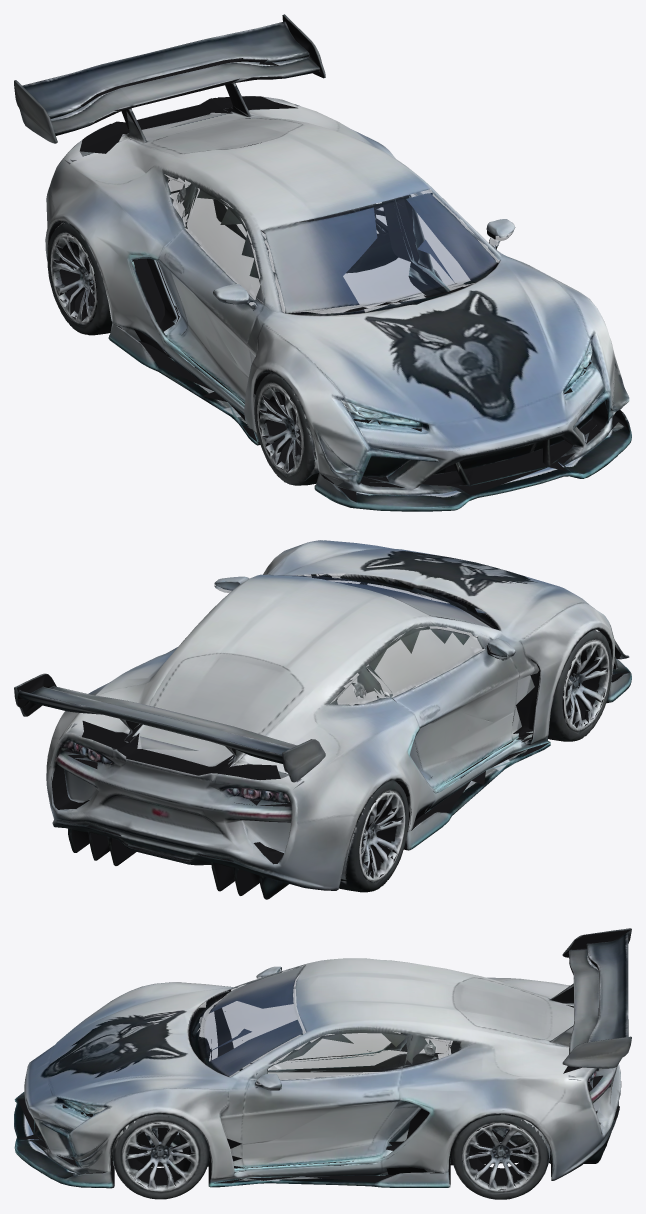
The model's file is chrome_supercar.glb.
3 views of the same model, one above another, from view 1: azimuth 30°, elevation 25°; view 2: azimuth 150°, elevation 25°; view 3: azimuth 270°, elevation 25° (orthographic). The views are drawn at different scales.
Parts seen in each view (by area): view 1: body, door_r, glass, wheel_fr, wheel_rr, door_r_glass, door_l, wheel_rl; view 2: body, door_r, wheel_rr, wheel_fr, door_r_glass, glass; view 3: body, door_l, wheel_fl, wheel_rl, glass, door_l_glass, door_r.
Boxes of the visible parts, x1=… form: body: x1=14, y1=14, x2=631, y2=511; door_r: x1=148, y1=189, x2=315, y2=398; glass: x1=165, y1=174, x2=498, y2=313; wheel_fr: x1=254, y1=370, x2=319, y2=485; wheel_rr: x1=45, y1=216, x2=112, y2=335; door_r_glass: x1=185, y1=198, x2=282, y2=305; door_l: x1=404, y1=187, x2=515, y2=291; wheel_rl: x1=307, y1=203, x2=398, y2=273; body: x1=14, y1=540, x2=631, y2=899; door_r: x1=371, y1=609, x2=520, y2=807; wheel_rr: x1=339, y1=777, x2=408, y2=892; wheel_fr: x1=547, y1=622, x2=614, y2=741; door_r_glass: x1=376, y1=617, x2=512, y2=697; glass: x1=299, y1=574, x2=491, y2=705; body: x1=14, y1=928, x2=631, y2=1188; door_l: x1=241, y1=1026, x2=401, y2=1166; wheel_fl: x1=107, y1=1109, x2=210, y2=1199; wheel_rl: x1=452, y1=1112, x2=556, y2=1199; glass: x1=197, y1=964, x2=460, y2=1076; door_l_glass: x1=241, y1=1029, x2=401, y2=1089; door_r: x1=241, y1=964, x2=401, y2=1059.
Bounding box in the file's own units: 2.27 × 1.33 × 4.7.
Materials: 2 (2 with a texture image).
